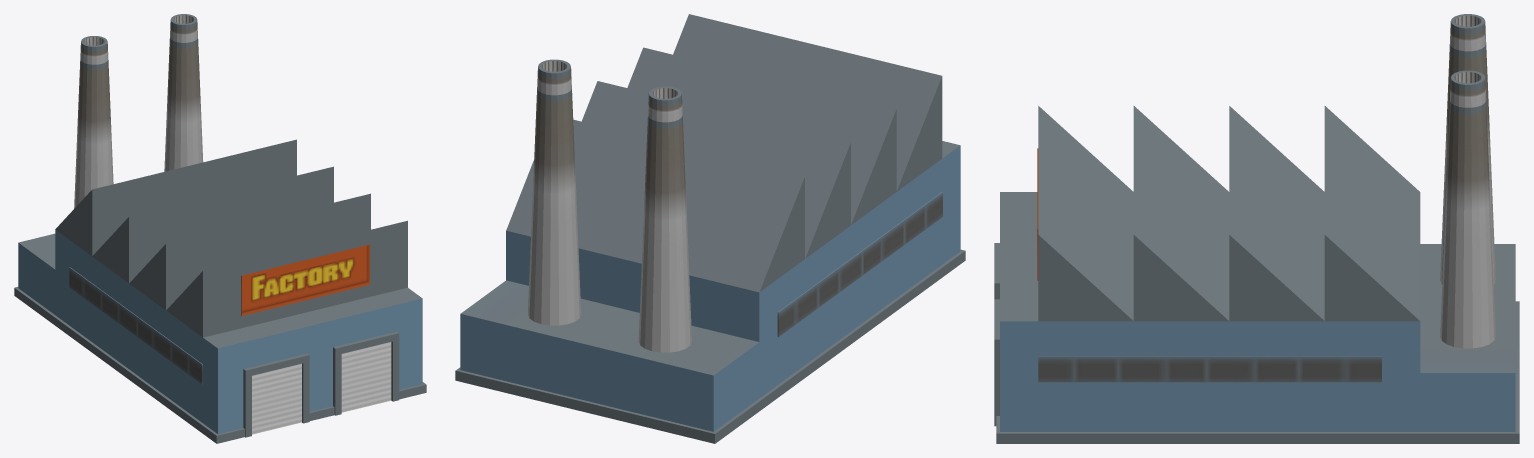
The model's file is Building_Factory.fbx.
3 renders of one model, left to right at view 1: azimuth 30°, elevation 25°; view 2: azimuth 150°, elevation 25°; view 3: azimuth 270°, elevation 25°, orthographic. The views are drawn at different scales.
Visible parts, largest first — view 1: Building_Factory; view 2: Building_Factory; view 3: Building_Factory.
Boxes of the visible parts, x1,y1,x2,y2 form: Building_Factory: [14, 14, 426, 443]; Building_Factory: [455, 14, 965, 443]; Building_Factory: [994, 14, 1519, 443].
Bounding box in the file's own units: 1640 × 1897 × 2750.
